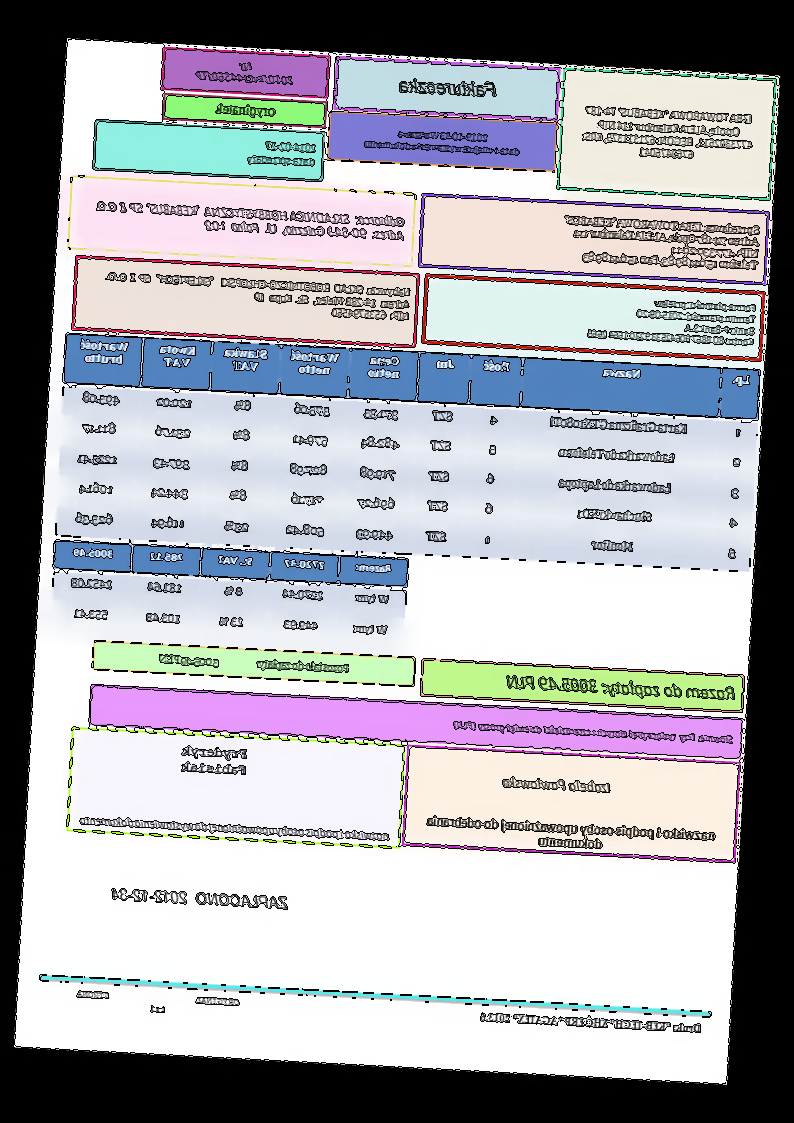Table: (54, 332, 762, 574), (48, 538, 411, 650)
TextBox: (102, 269, 412, 323), (92, 198, 409, 243), (560, 211, 763, 274), (425, 814, 717, 857), (580, 102, 757, 164), (78, 811, 392, 844), (587, 293, 759, 347), (451, 719, 735, 746), (504, 671, 738, 702), (477, 1010, 705, 1037), (362, 126, 523, 159), (108, 885, 291, 913), (75, 988, 241, 1018), (157, 651, 352, 676), (193, 57, 297, 90), (177, 743, 250, 777), (398, 75, 498, 99), (246, 139, 318, 171), (500, 775, 613, 795), (213, 101, 279, 120)
